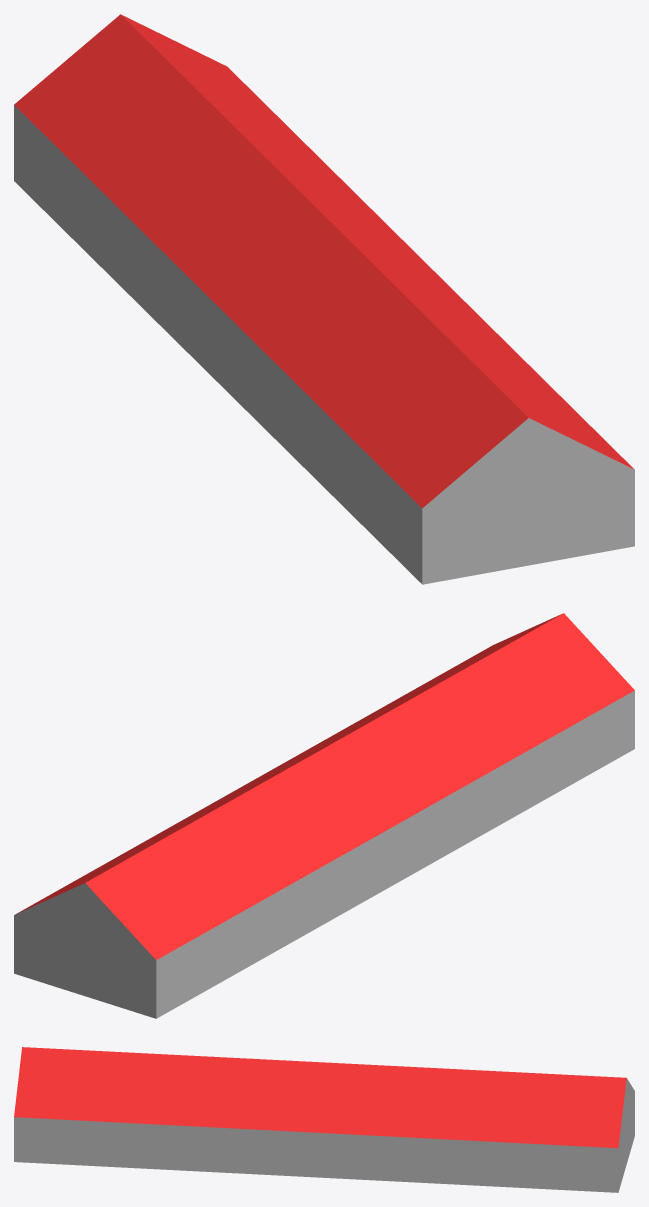
Rendered from DEBY_LOD2_4731392.dae.
3 renders of one model, top to bottom at view 1: azimuth 30°, elevation 25°; view 2: azimuth 150°, elevation 25°; view 3: azimuth 270°, elevation 25°, orthographic. The views are drawn at different scales.
Bounding box in the file's own units: 6.28 × 18.79 × 2.89.
